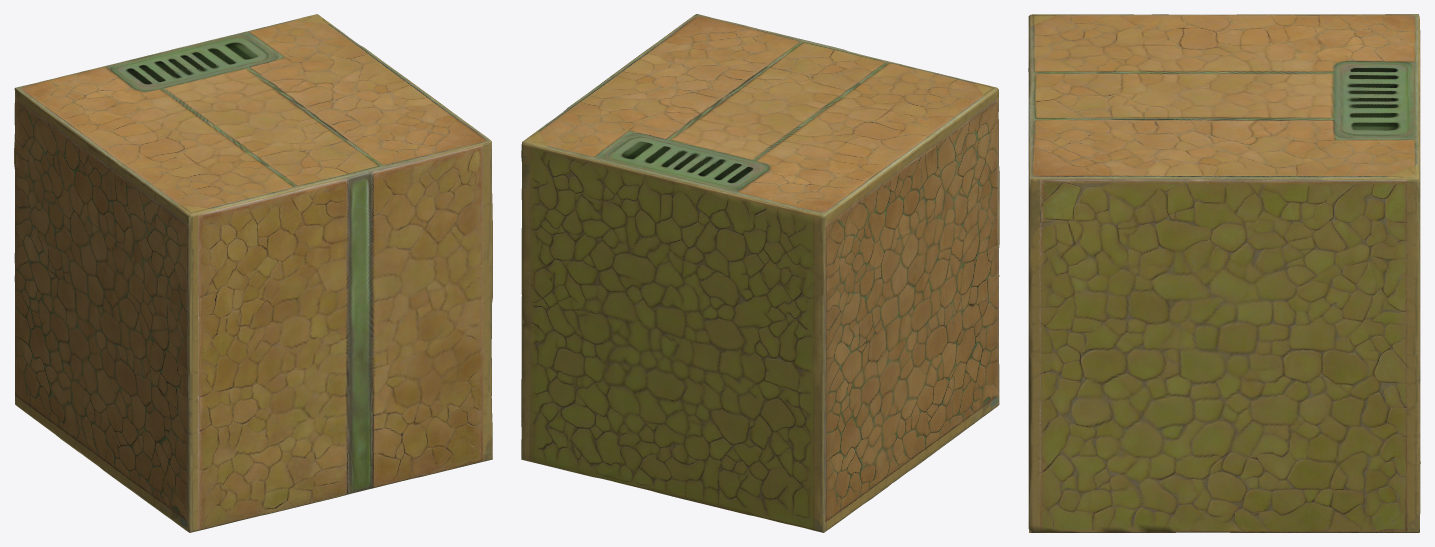
Rendered from Tile_Block_0404141502_texture.glb.
3 renders of one model, left to right at view 1: azimuth 30°, elevation 25°; view 2: azimuth 150°, elevation 25°; view 3: azimuth 270°, elevation 25°, orthographic. The views are drawn at different scales.
Bounding box in the file's own units: 2 × 2 × 2.
1 material, 1 textured.
